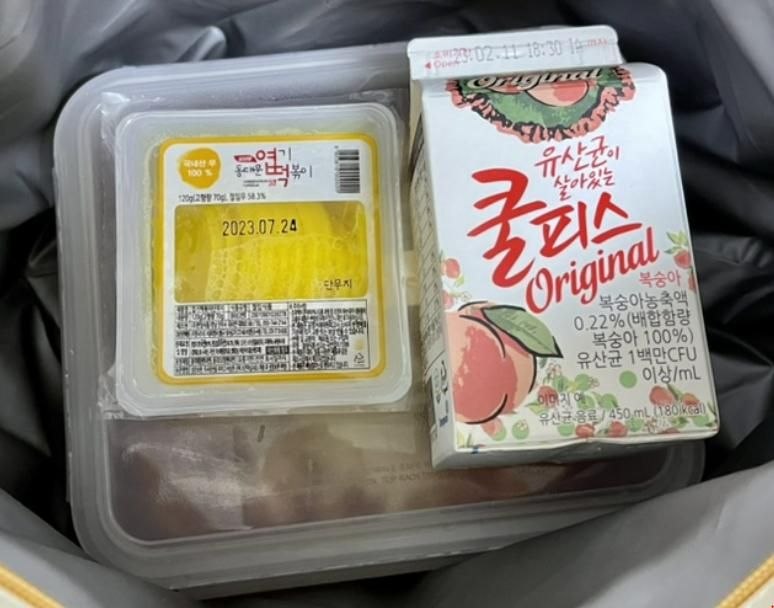Lunch Box: (114, 102, 411, 416)
